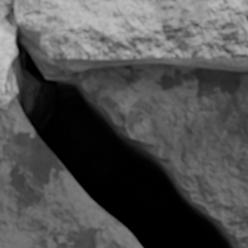broken_brick: (16, 0, 247, 72), (0, 6, 16, 110)
crack: (0, 0, 246, 247)
